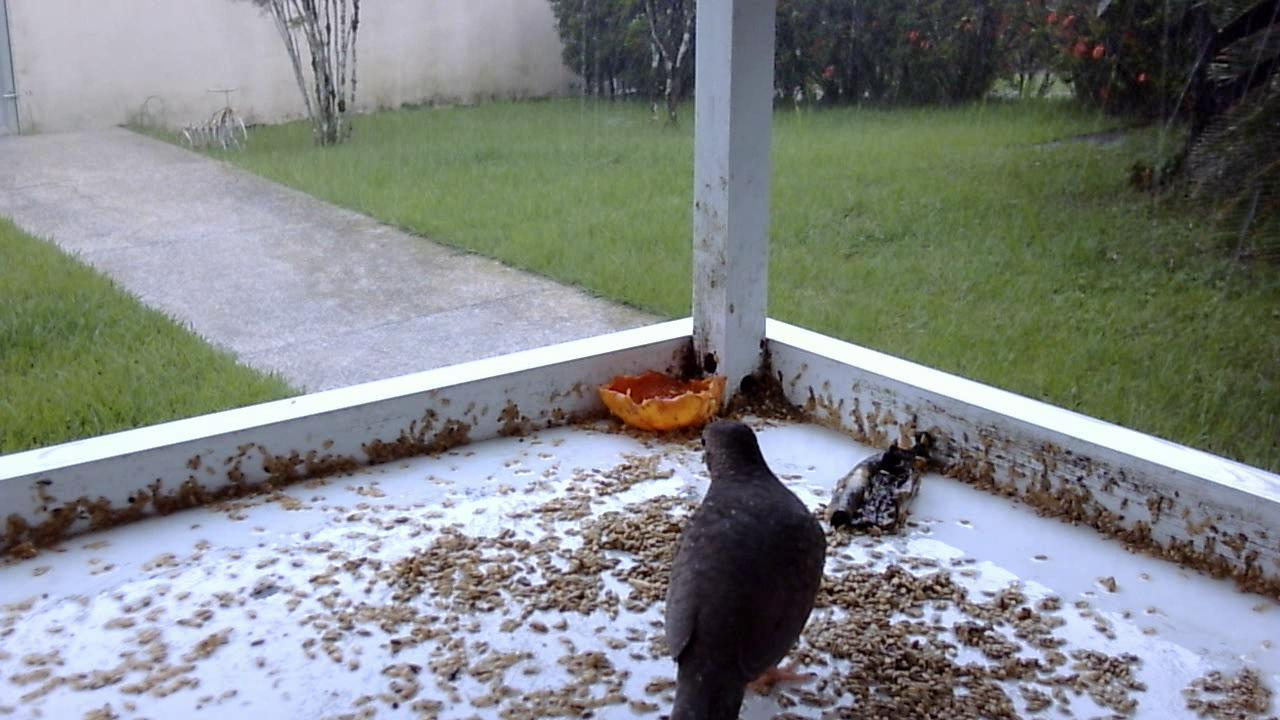rolinha: (652, 415, 832, 718)
